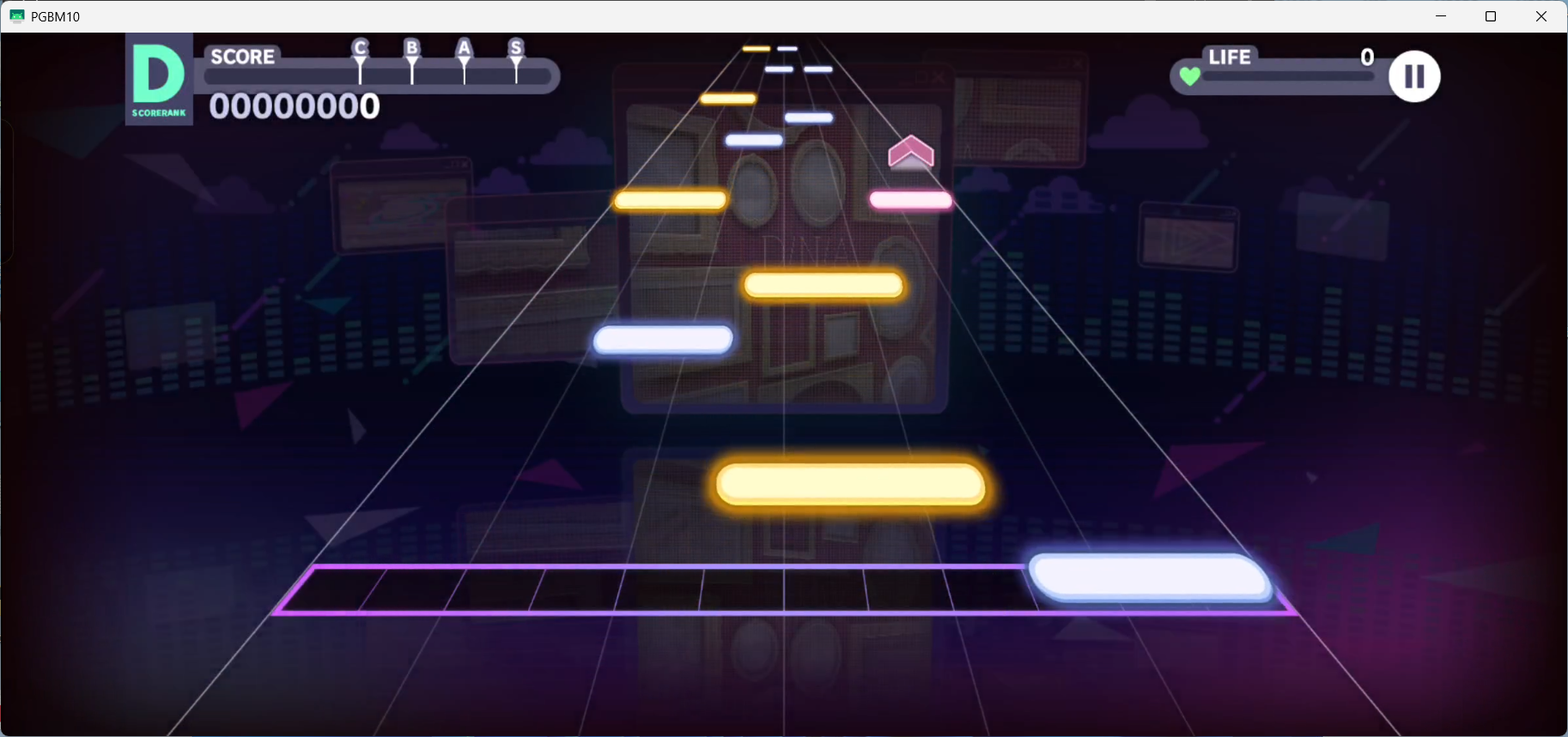flick: (888, 134, 934, 173)
tap: (1028, 552, 1274, 604), (714, 462, 987, 506), (593, 324, 733, 354), (743, 273, 903, 299), (614, 190, 726, 210), (869, 190, 953, 208), (725, 134, 782, 146), (700, 93, 756, 105), (785, 113, 833, 124), (764, 65, 793, 73), (803, 66, 832, 73), (742, 45, 770, 51), (777, 45, 798, 51)
